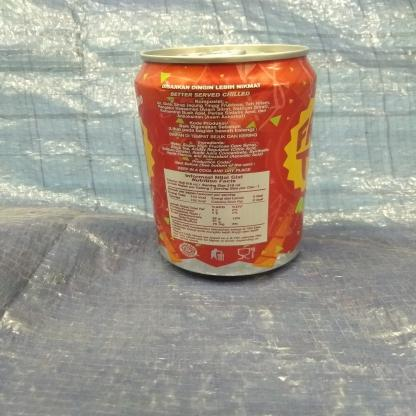can: (130, 39, 322, 281)
